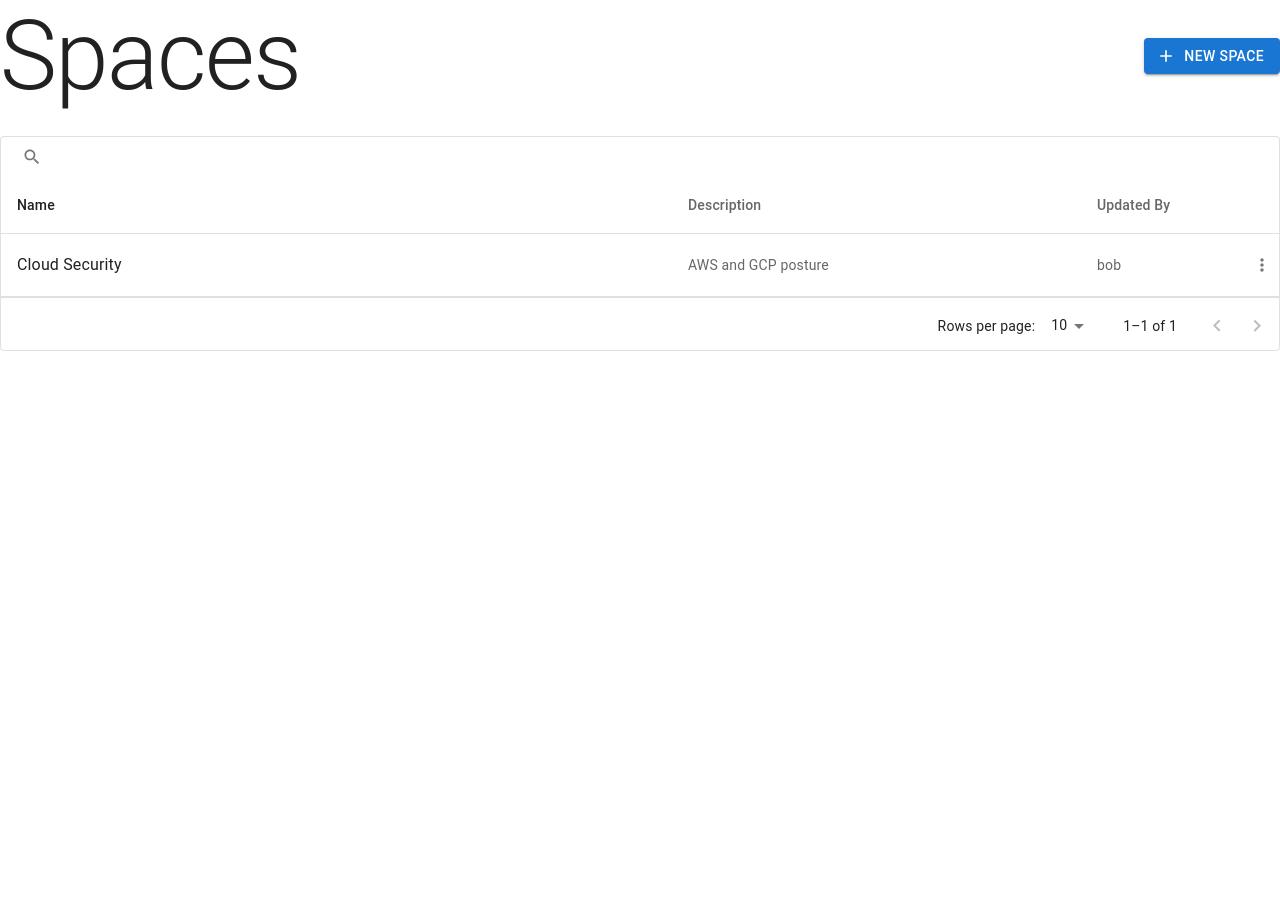
Spaces › surfaces the 409 detail when deleting a non-empty space
Click the button named "More actions". click: (1262, 265)
box: [1247,250,1277,280]
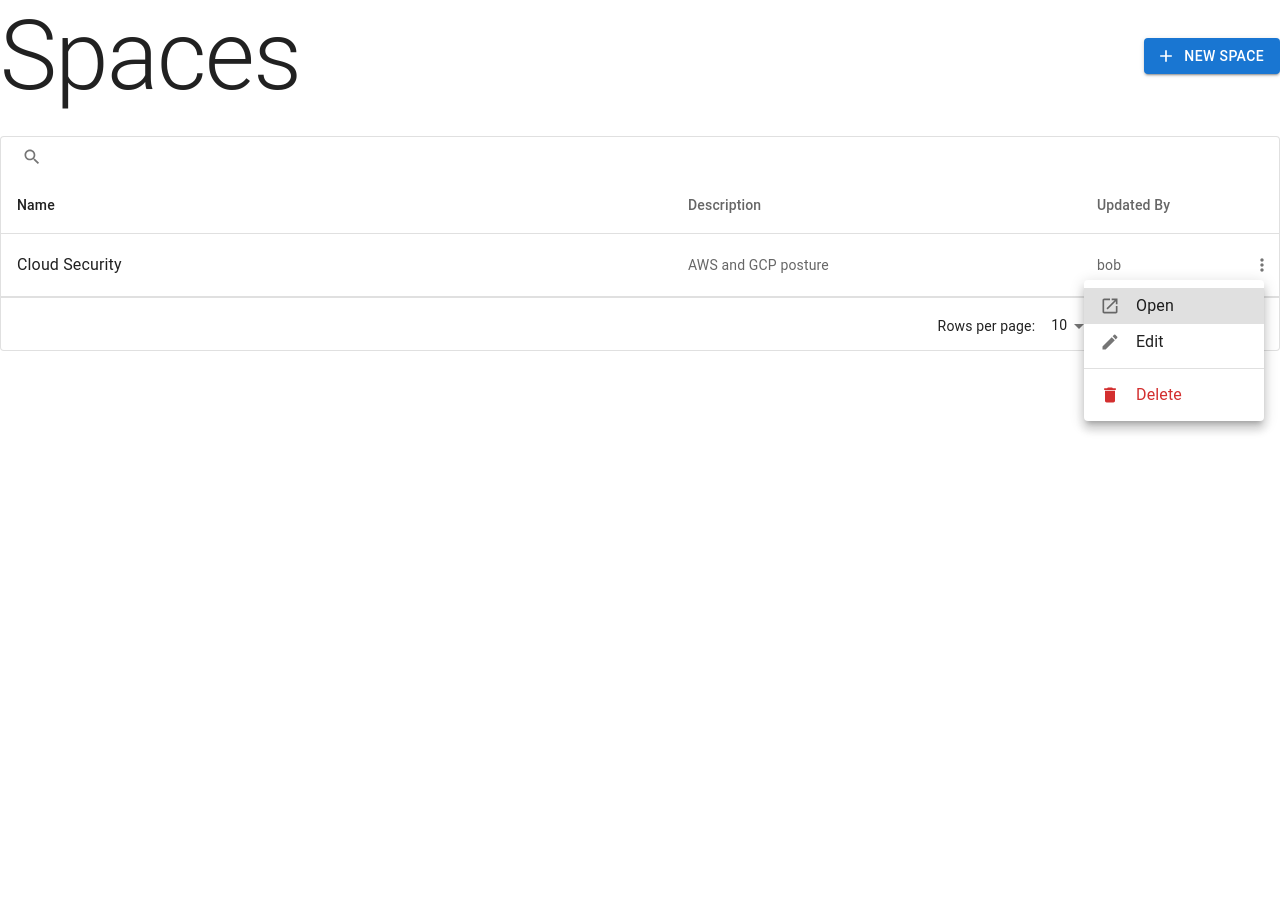
Click the menu item "Delete". click: (1141, 395)
box: [1100,385,1182,405]
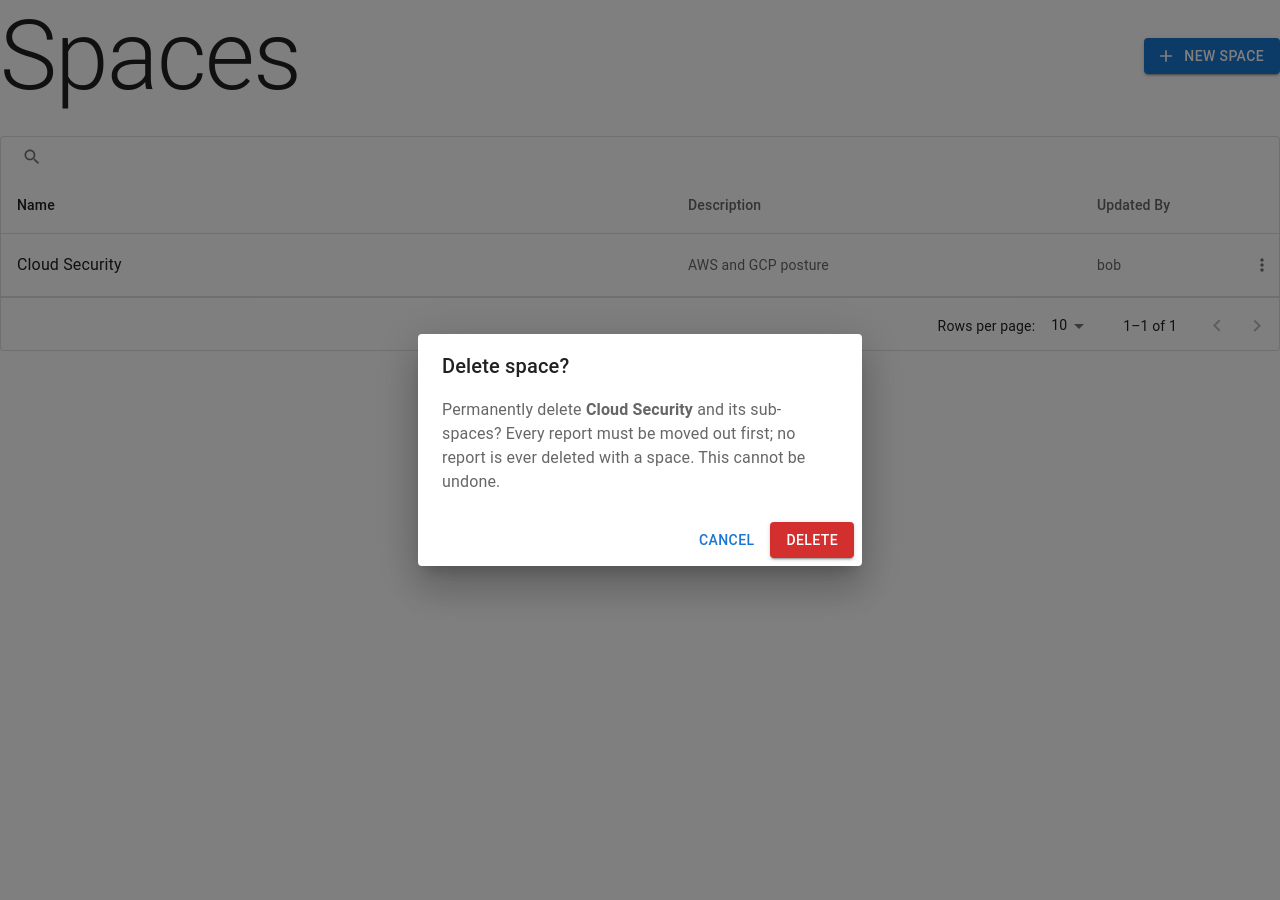
Click the button "Delete". click: (812, 540)
box: [770,522,854,558]
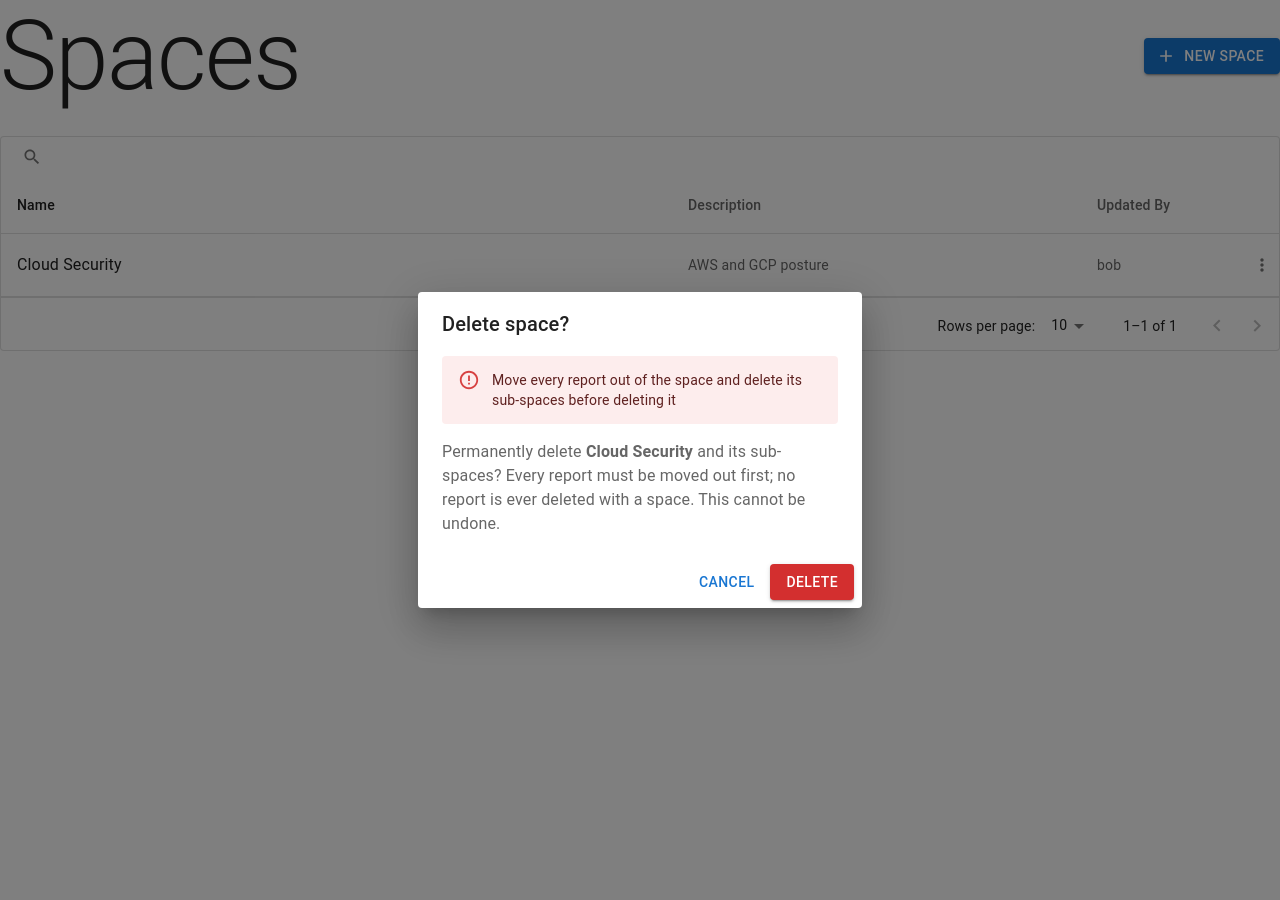
Result: the text "Move every report out of the space" is shown at [492,372,802,408]
